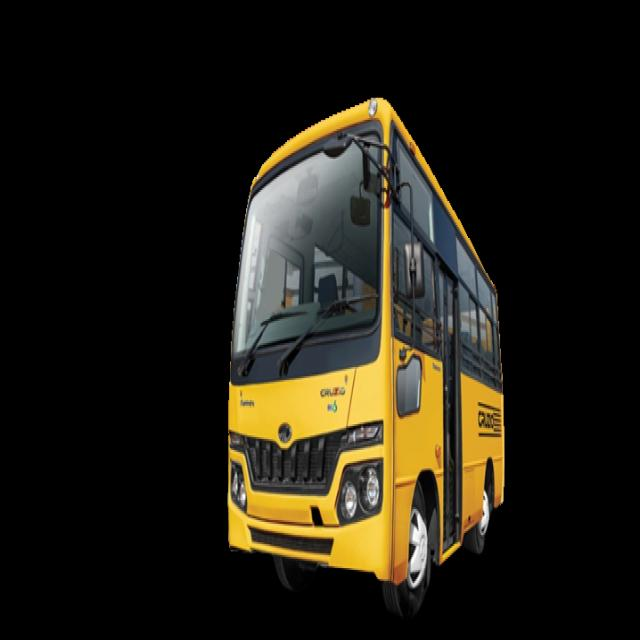bus: (228, 98, 504, 617)
